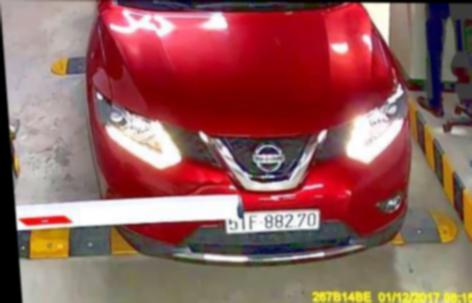License_Plate: (224, 206, 321, 237)
